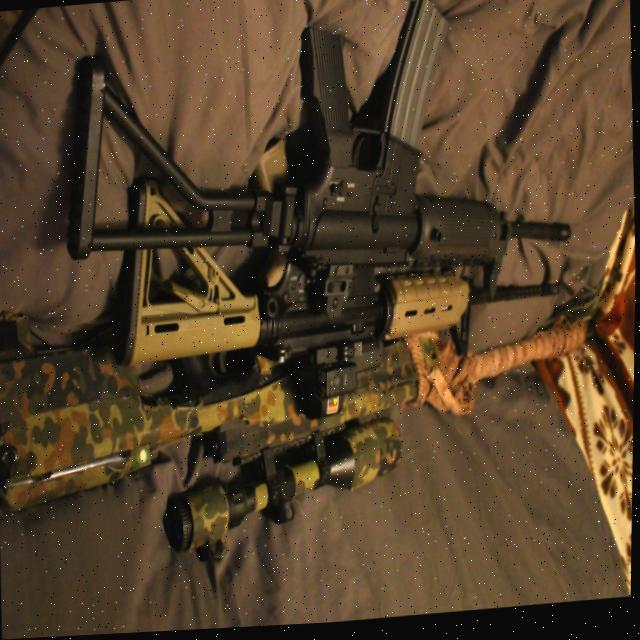firearm: (0, 265, 605, 587), (55, 0, 578, 348), (102, 114, 569, 442)
